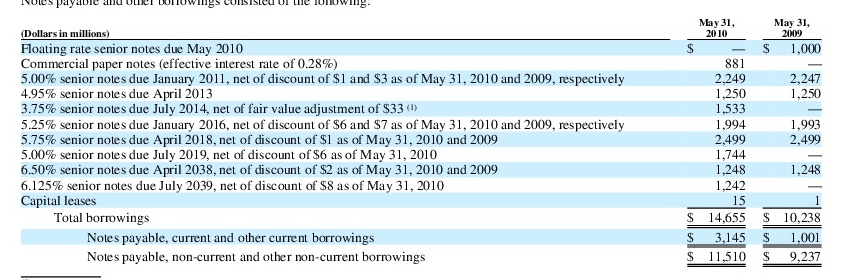table: (0, 0, 844, 280)
